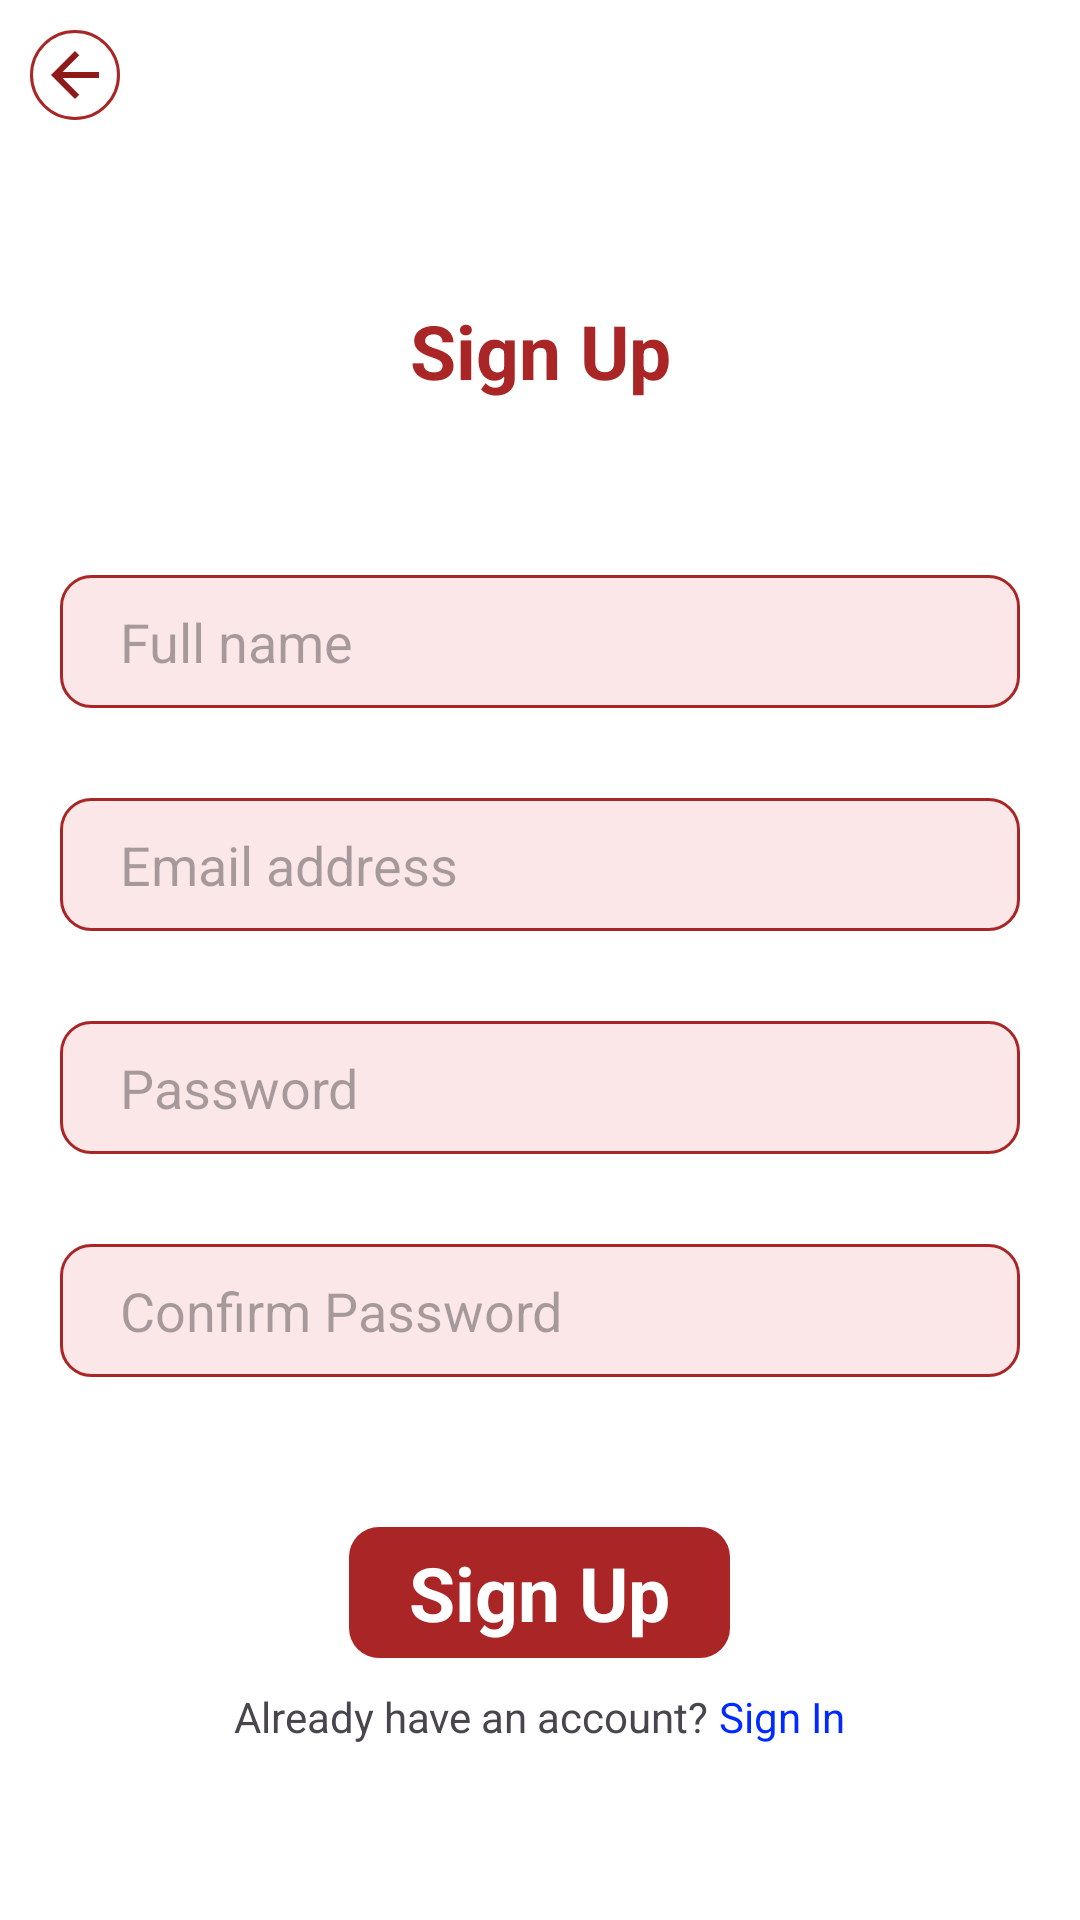

Where icons sit on this 1080*1920 app screen, as (x1, y1, x2, y2):
back: (30, 30, 120, 120)
